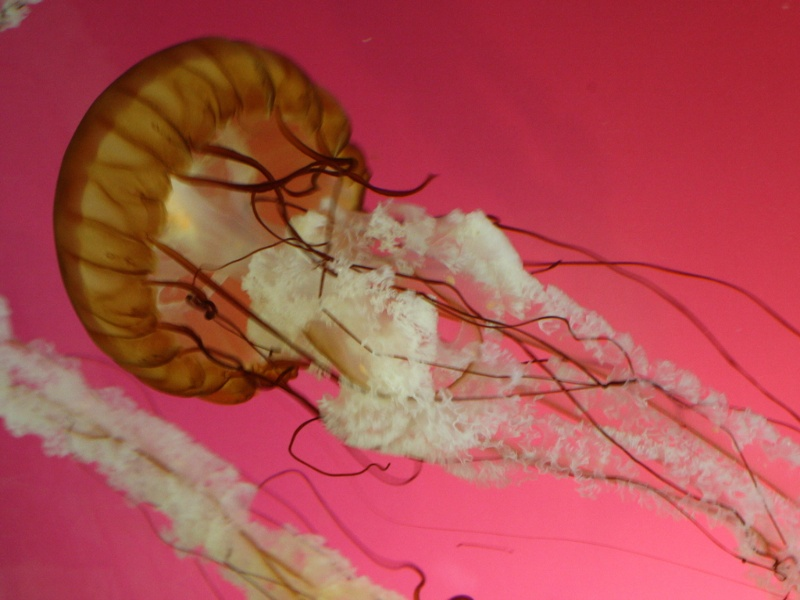Jellyfish: (54, 33, 799, 599)
